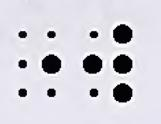dot_5: (17, 30, 62, 97)
wasto: (82, 23, 134, 103)
